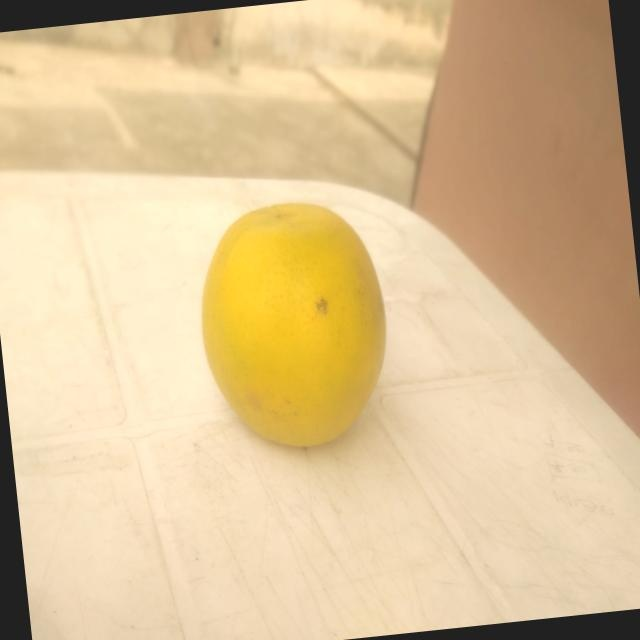agrume: (187, 187, 401, 461)
